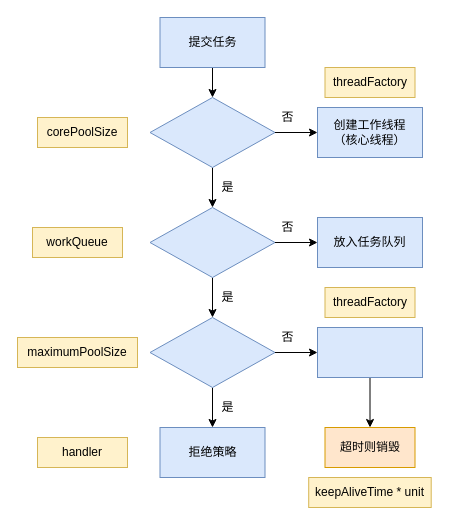
Some shapes in this 449 by 525 pixel diagram are drawn without their labels. Each missing label, with the centre of its shape:
"任务队列 是否已满" belongs at (212,242).
"创建工作线程 （非核心线程）" belongs at (369,352).
"是否达到 最大线程数" belongs at (212,352).
"是否达到 核心线程数" belongs at (212,132).
